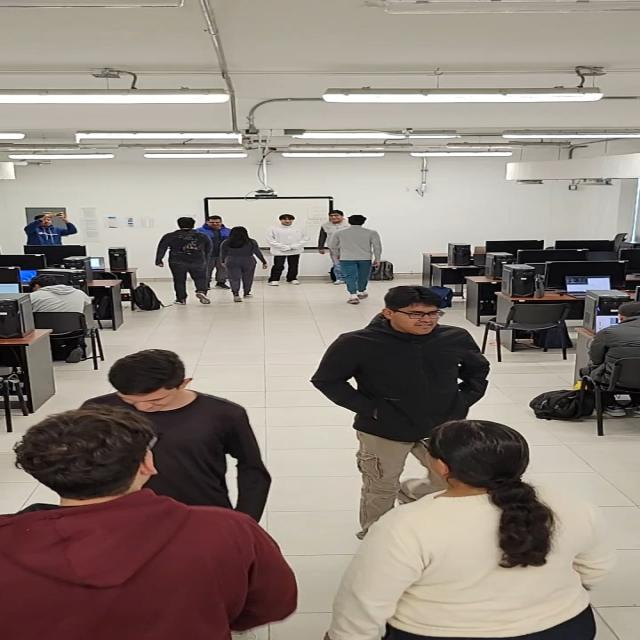Persona: (337, 417, 640, 640), (0, 411, 280, 640), (329, 281, 476, 507), (96, 346, 272, 524), (155, 213, 210, 309), (340, 214, 382, 306), (225, 221, 267, 305), (268, 214, 307, 287), (203, 210, 228, 288)
